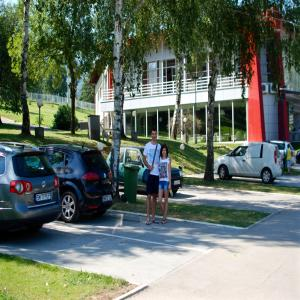Vehicle-registration-plate: (36, 192, 52, 203), (104, 196, 114, 205), (174, 180, 181, 186)
